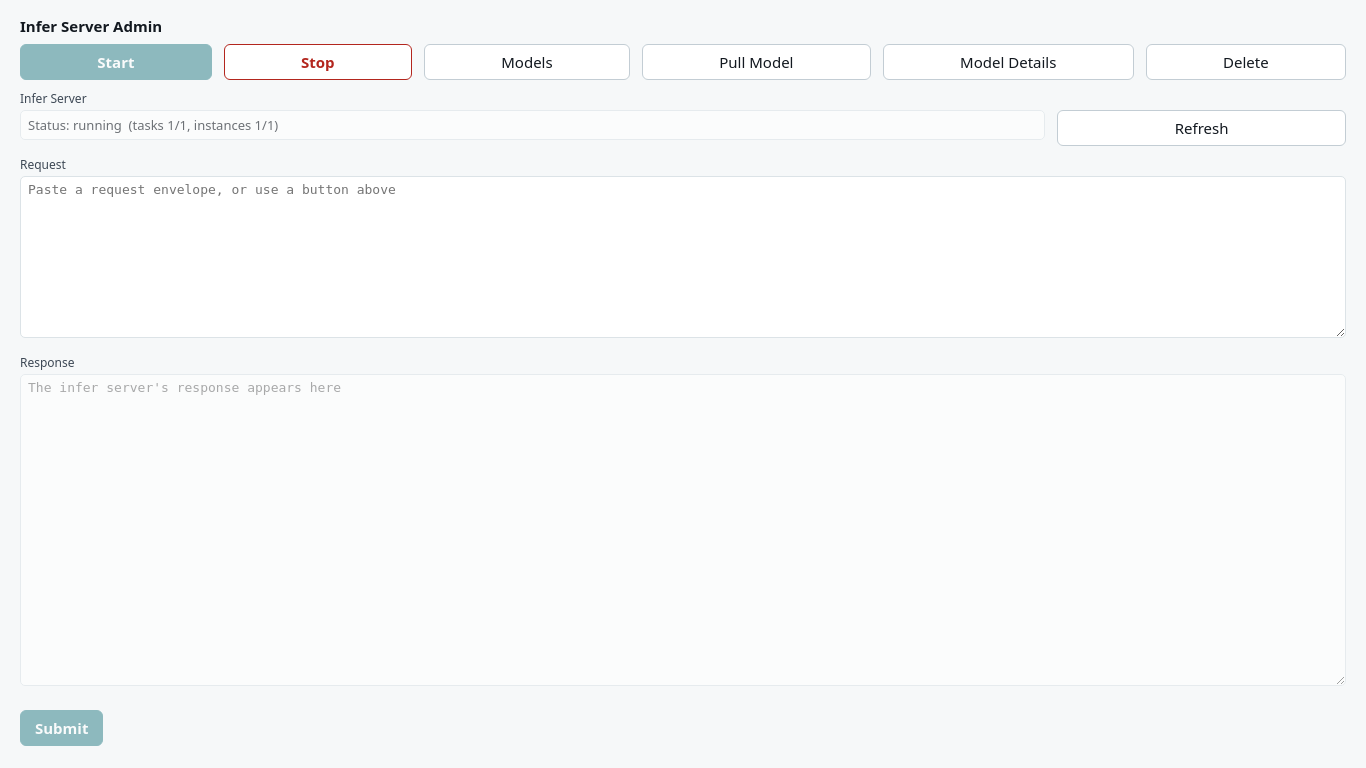
Test: the Infer Server Admin screen › gates Start and Stop on the reported state — FormActionSchema.enabledWhen
Expected: the button "Start" is disabled, [20,44,212,80]
Click the button "Stop" at (318, 62), box [224,44,412,80]
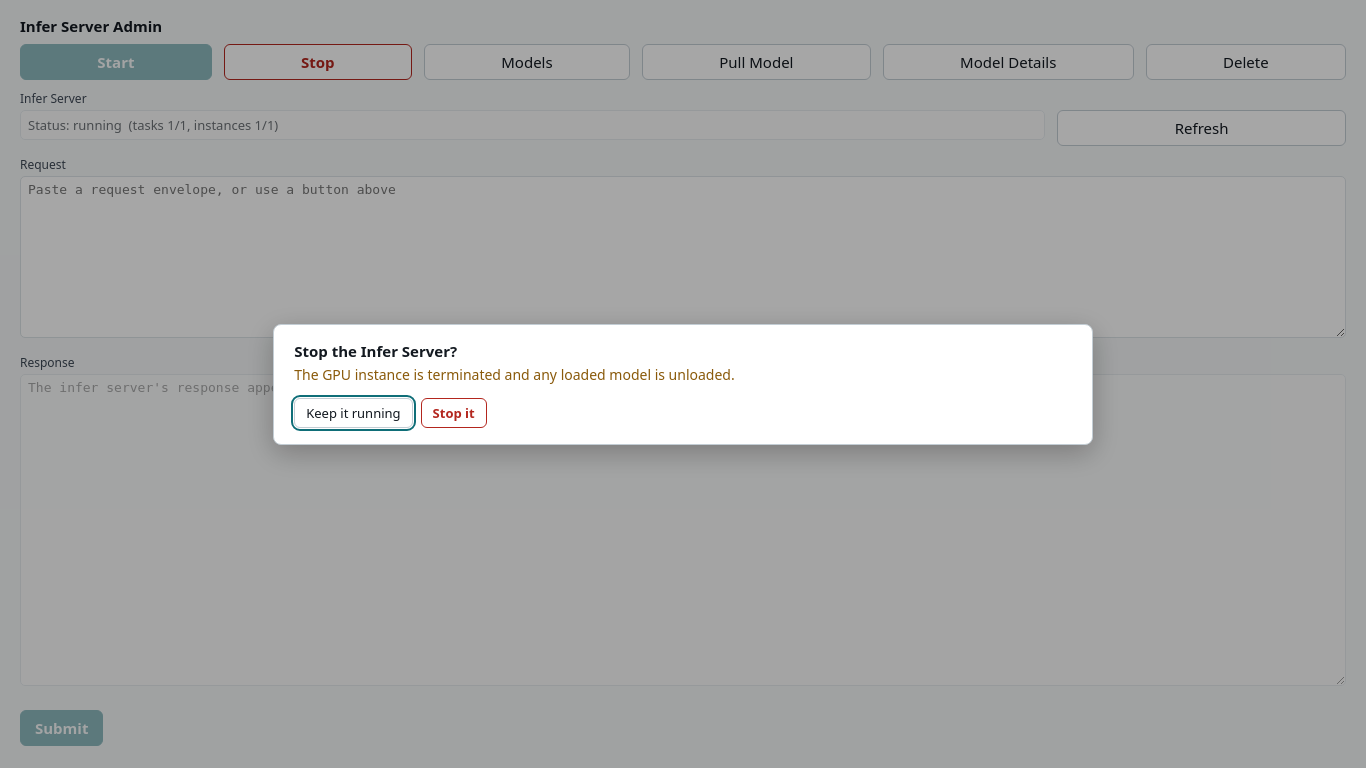
Click the button "Stop it" at (454, 412), box [421,398,487,428]
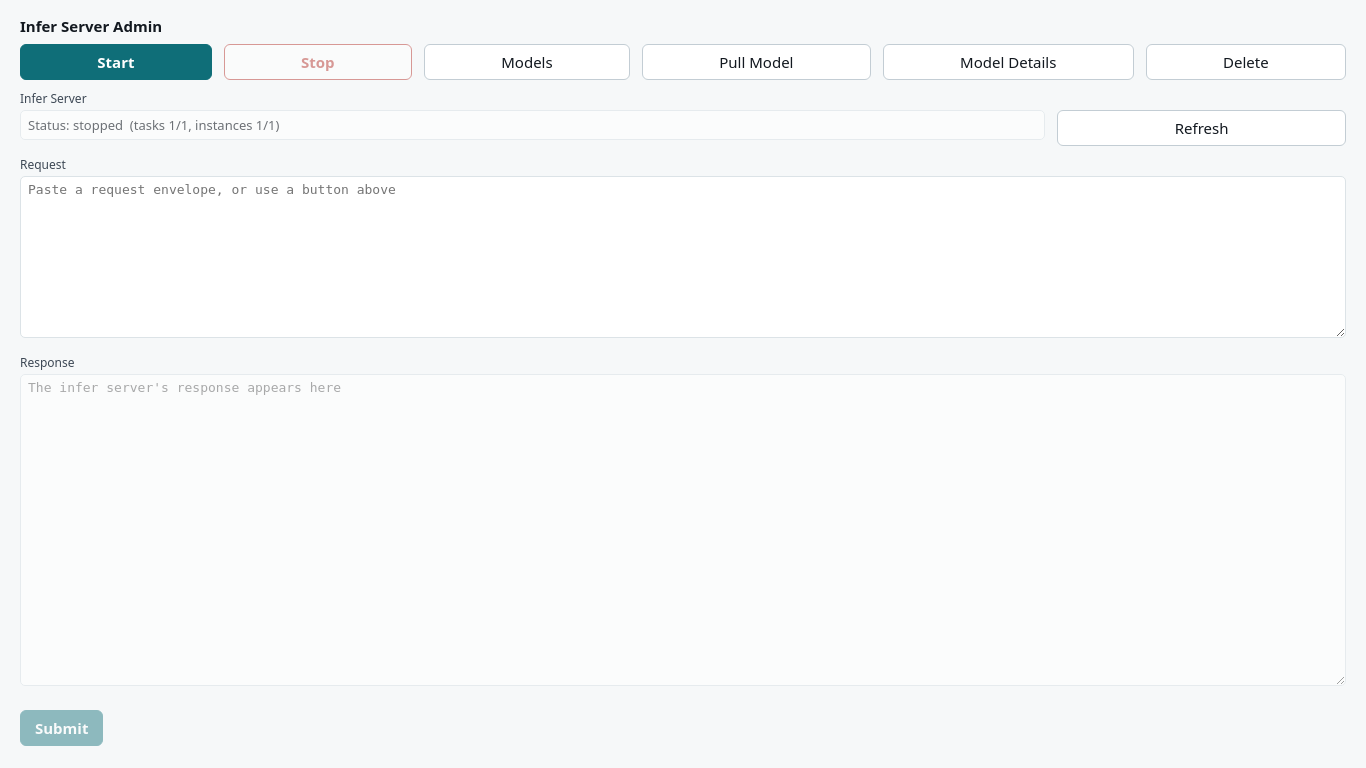
Now the button "Start" is enabled, box [20,44,212,80]
Now the button "Stop" is disabled, box [224,44,412,80]
